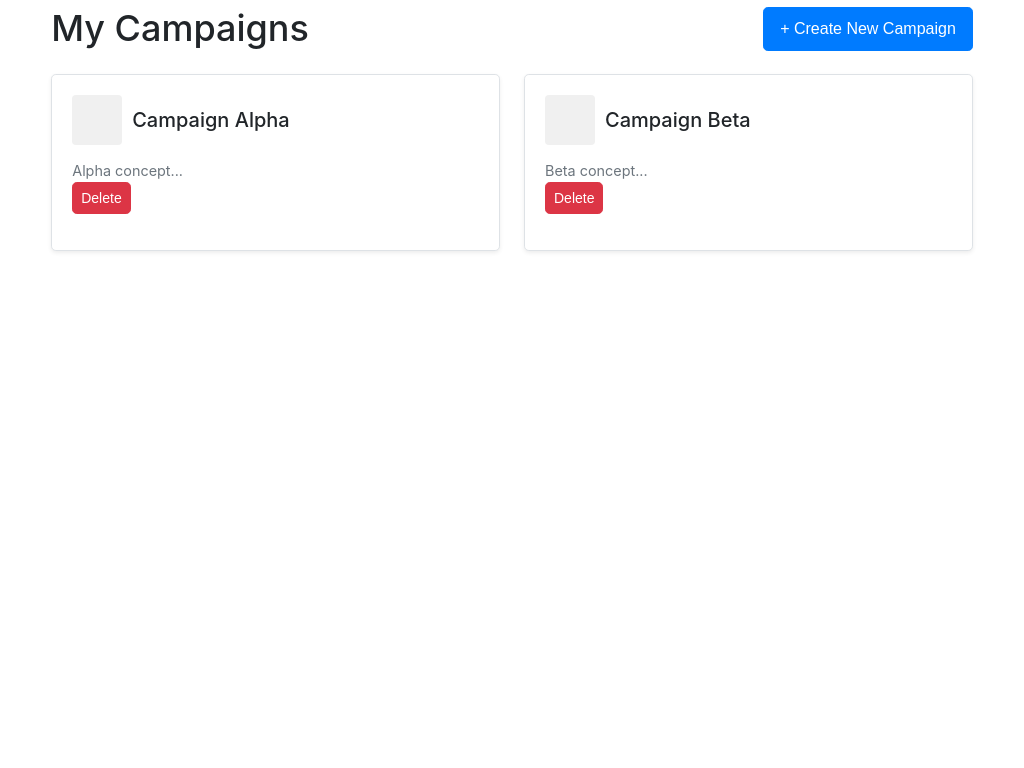
Test: MyCampaignsPage › handles error during campaign deletion
The image size is (1024, 768).
Expected: the heading "Campaign Alpha" is shown, [132, 104, 290, 136]
Click the button with aria-label "Delete campaign" at [101, 198], box [72, 182, 131, 214]
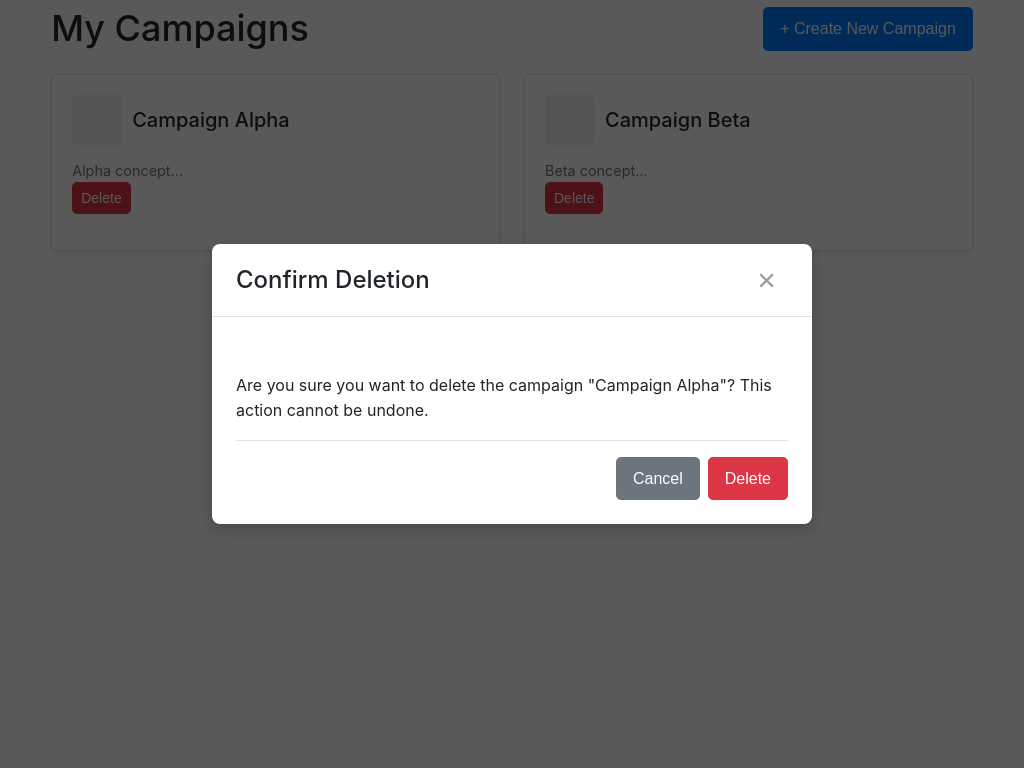
Now the heading "Confirm Deletion" is shown, box [236, 263, 430, 296]
Click the button "Delete" at [748, 479], box [708, 457, 788, 500]
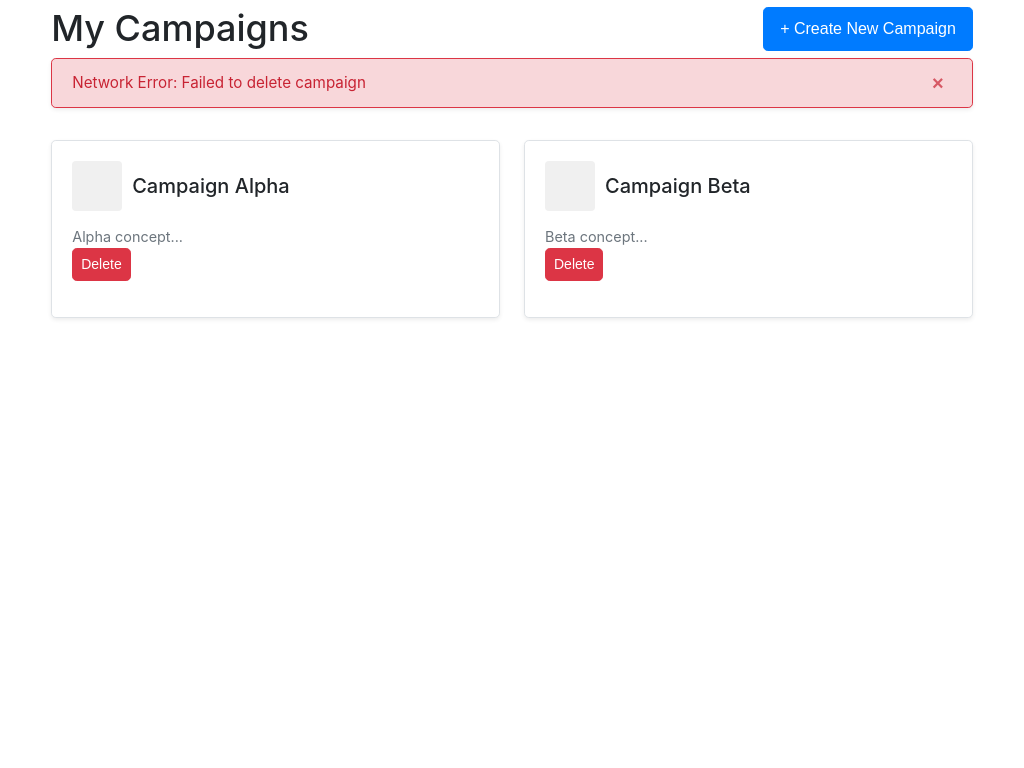
Now the text "Network Error: Failed to delete campaign" is shown, box [72, 71, 366, 95]
Now the heading "Confirm Deletion" is gone
